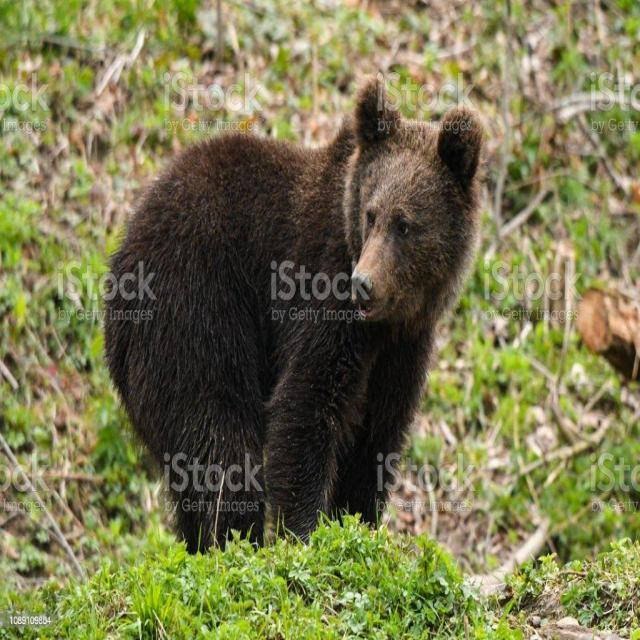Bear: (102, 78, 493, 556)
